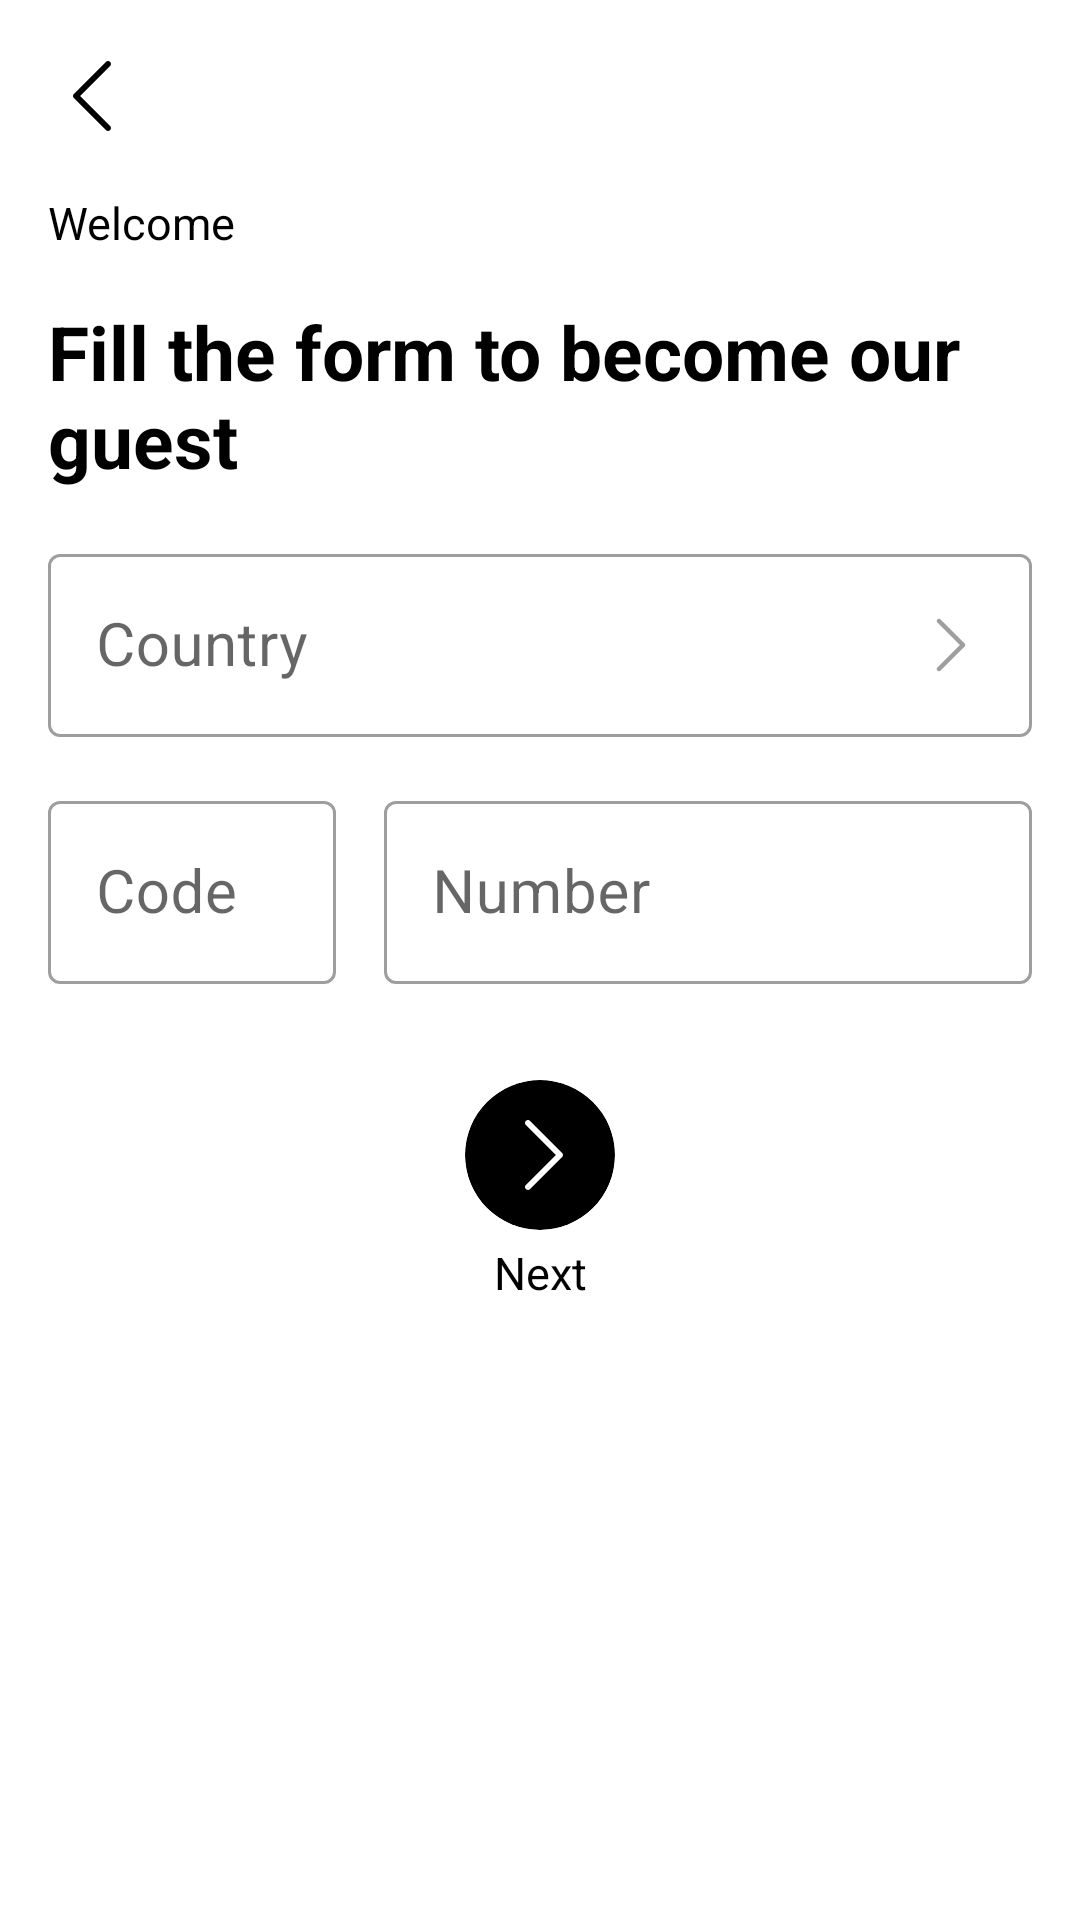

Where to tap for icons on this 1080×1920 app screen, as (x,y):
back: (92,96)
